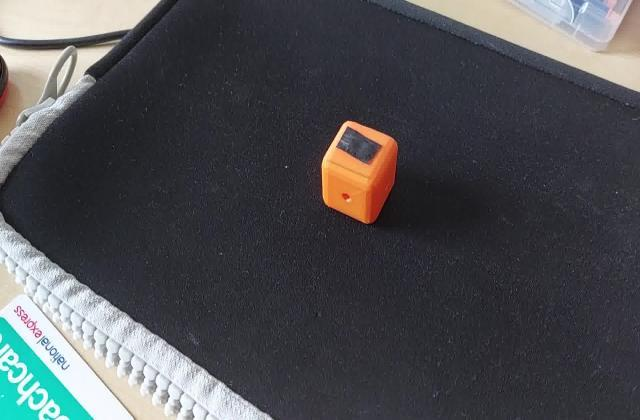black: (337, 132, 386, 166)
sticker: (319, 117, 402, 227)
